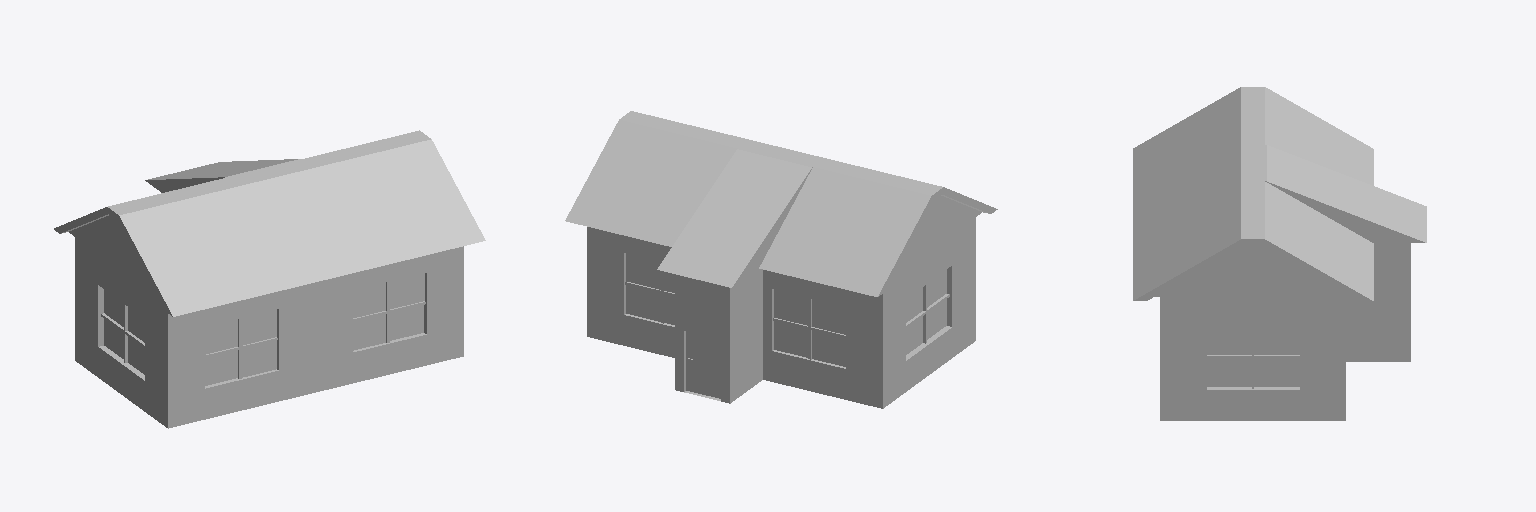
Rendered from THouse.obj.
The picture shows the model from 3 angles: view 1: azimuth 30°, elevation 25°; view 2: azimuth 150°, elevation 25°; view 3: azimuth 270°, elevation 25°; orthographic projection.
Parts seen in each view (by area): view 1: T-Shape_Cube.005; view 2: T-Shape_Cube.005; view 3: T-Shape_Cube.005.
Boxes of the visible parts, box(x1,y1,x2,y2) form: T-Shape_Cube.005: box(54, 130, 485, 428); T-Shape_Cube.005: box(565, 111, 997, 408); T-Shape_Cube.005: box(1133, 87, 1426, 420).
Bounding box in the file's own units: 7.4 × 4.2 × 6.04.